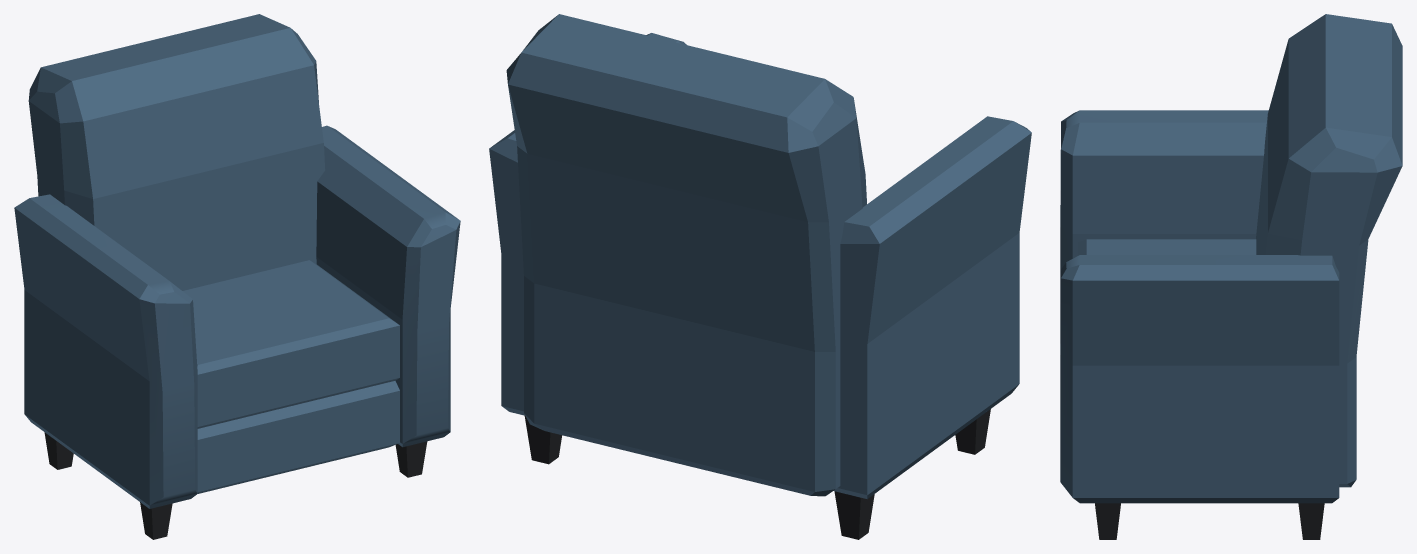
The model's file is Couch.fbx.
The picture shows the model from 3 angles, left to right: view 1: azimuth 30°, elevation 25°; view 2: azimuth 150°, elevation 25°; view 3: azimuth 270°, elevation 25°; orthographic projection. The views are drawn at different scales.
Parts seen in each view (by area): view 1: Couch; view 2: Couch; view 3: Couch.
Part boxes in pixels (x1=…): Couch: x1=14, y1=14, x2=460, y2=539; Couch: x1=489, y1=14, x2=1031, y2=539; Couch: x1=1060, y1=14, x2=1402, y2=539.
Size of the model in its own units: 97.13 by 108 by 84.12.
1 material, 1 textured.
